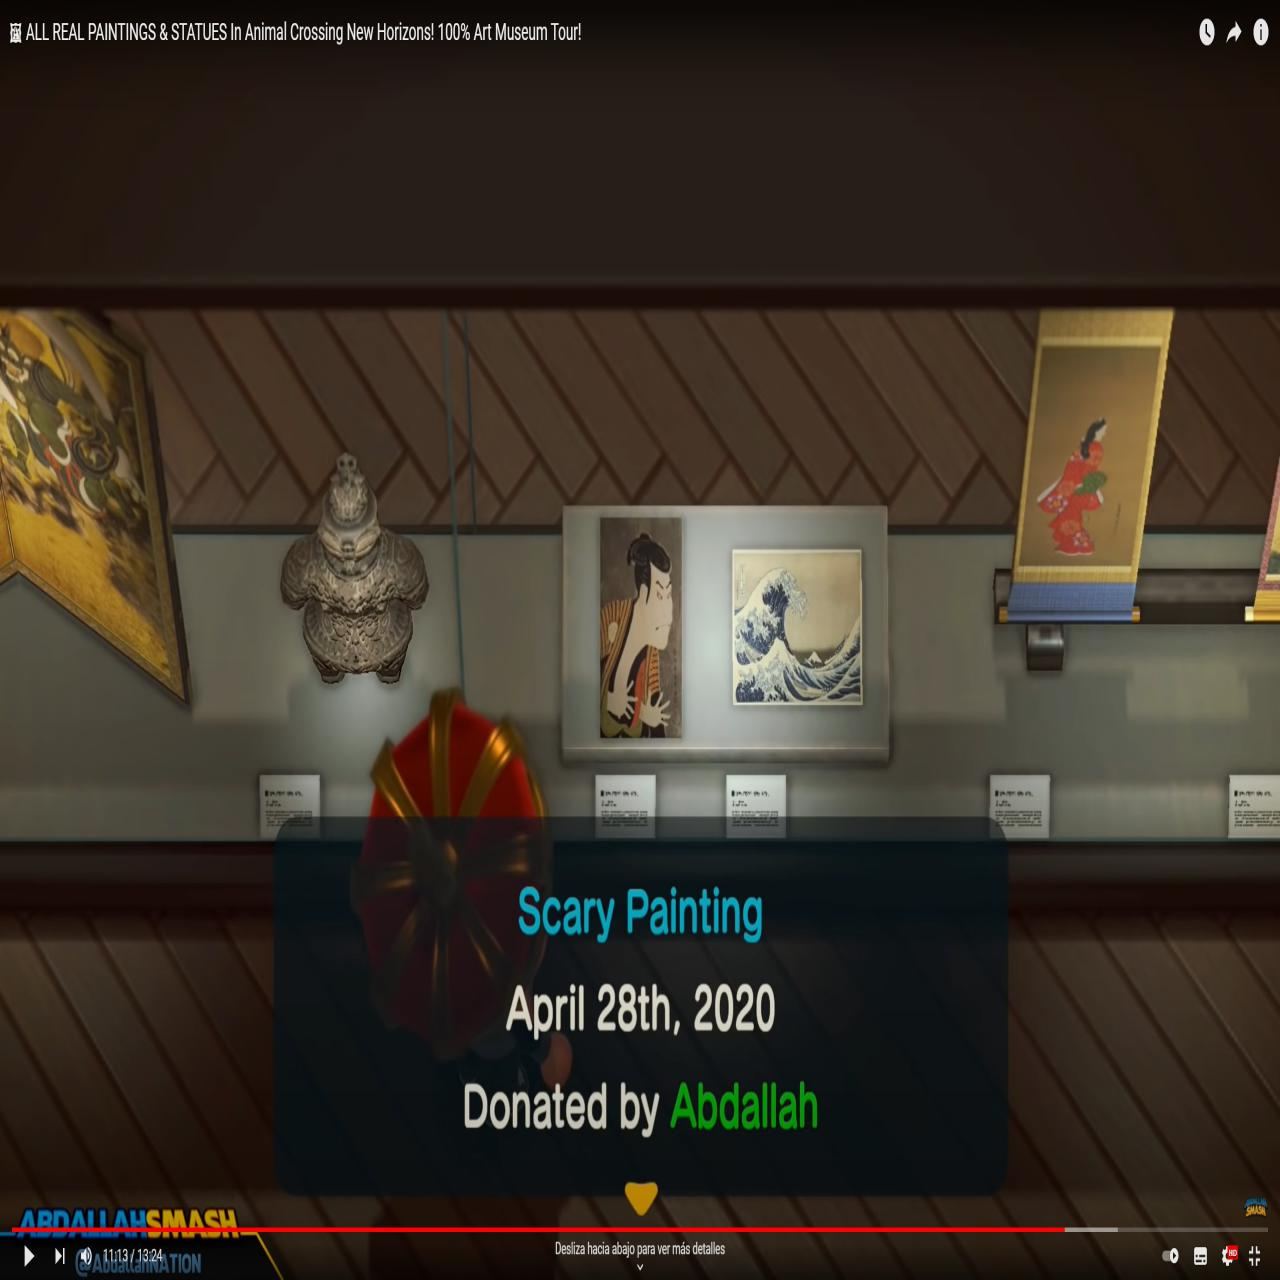Doguu: (278, 445, 438, 700)
Kanagawa: (734, 552, 862, 708)
Mikaeri: (1023, 340, 1151, 570)
OotaniOniji: (604, 522, 685, 743)
